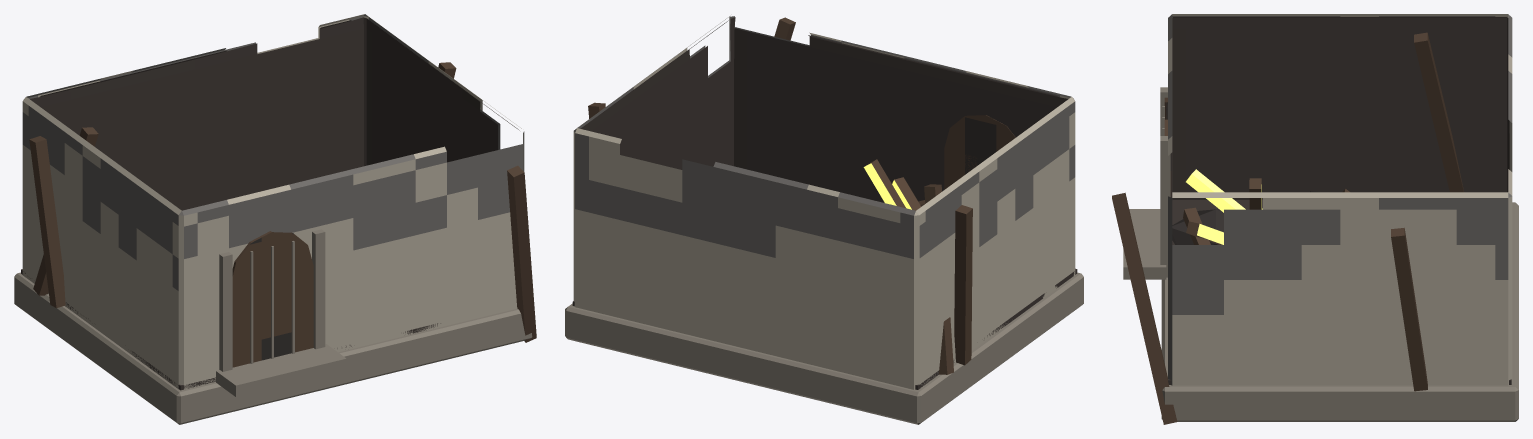
The model's file is Haus_Mittel_Ruine.fbx.
3 renders of one model, left to right at view 1: azimuth 30°, elevation 25°; view 2: azimuth 150°, elevation 25°; view 3: azimuth 270°, elevation 25°, orthographic. The views are drawn at different scales.
Visible parts, largest first — view 1: Haus_Mittel_Ruine; view 2: Haus_Mittel_Ruine; view 3: Haus_Mittel_Ruine.
Boxes of the visible parts, x1,y1,x2,y2 form: Haus_Mittel_Ruine: (14,14,536,424); Haus_Mittel_Ruine: (565,16,1083,424); Haus_Mittel_Ruine: (1112,14,1518,424).
Bounding box in the file's own units: 5.78 × 2.93 × 4.73.
